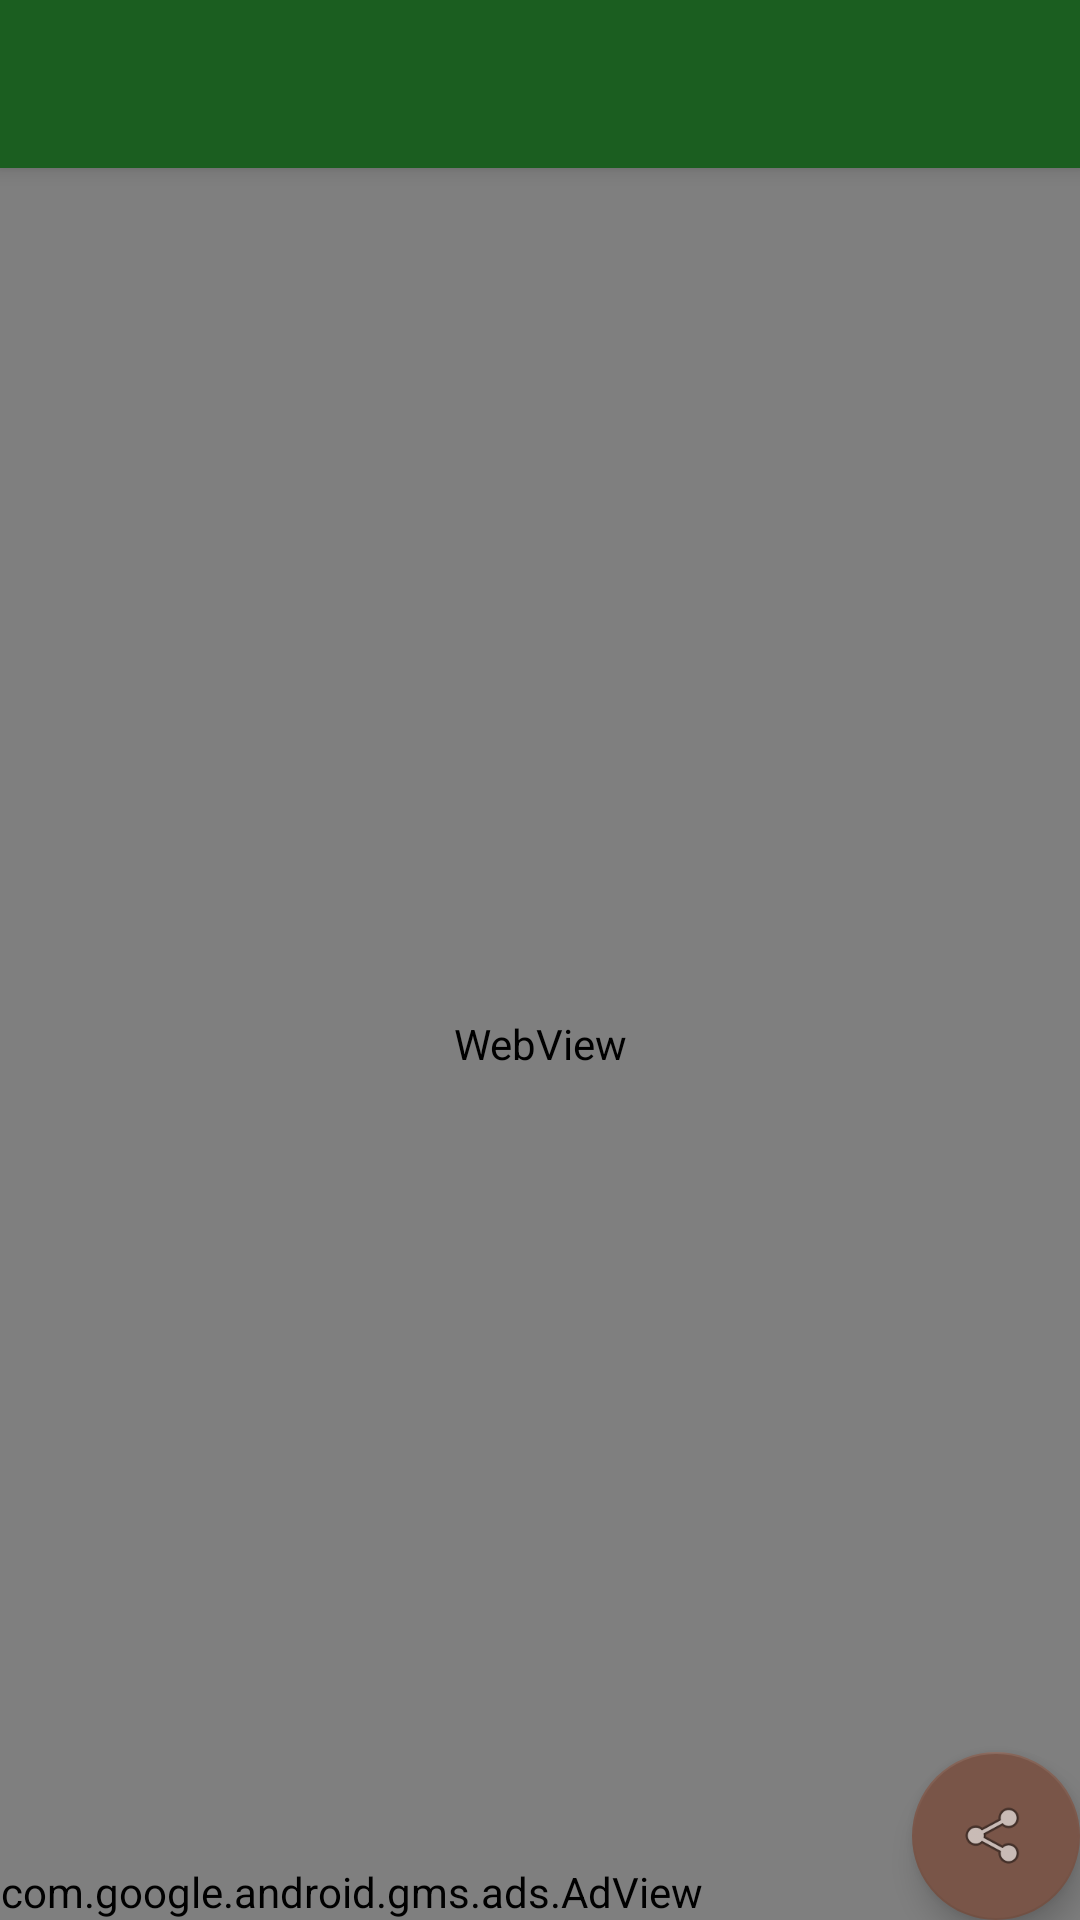

Locate icon controls on the screen. Image size 1080*1920, boxes as [x1=x1, y1=y1, x2=x2, y2=y2].
share: [x1=912, y1=1753, x2=1080, y2=1920]
